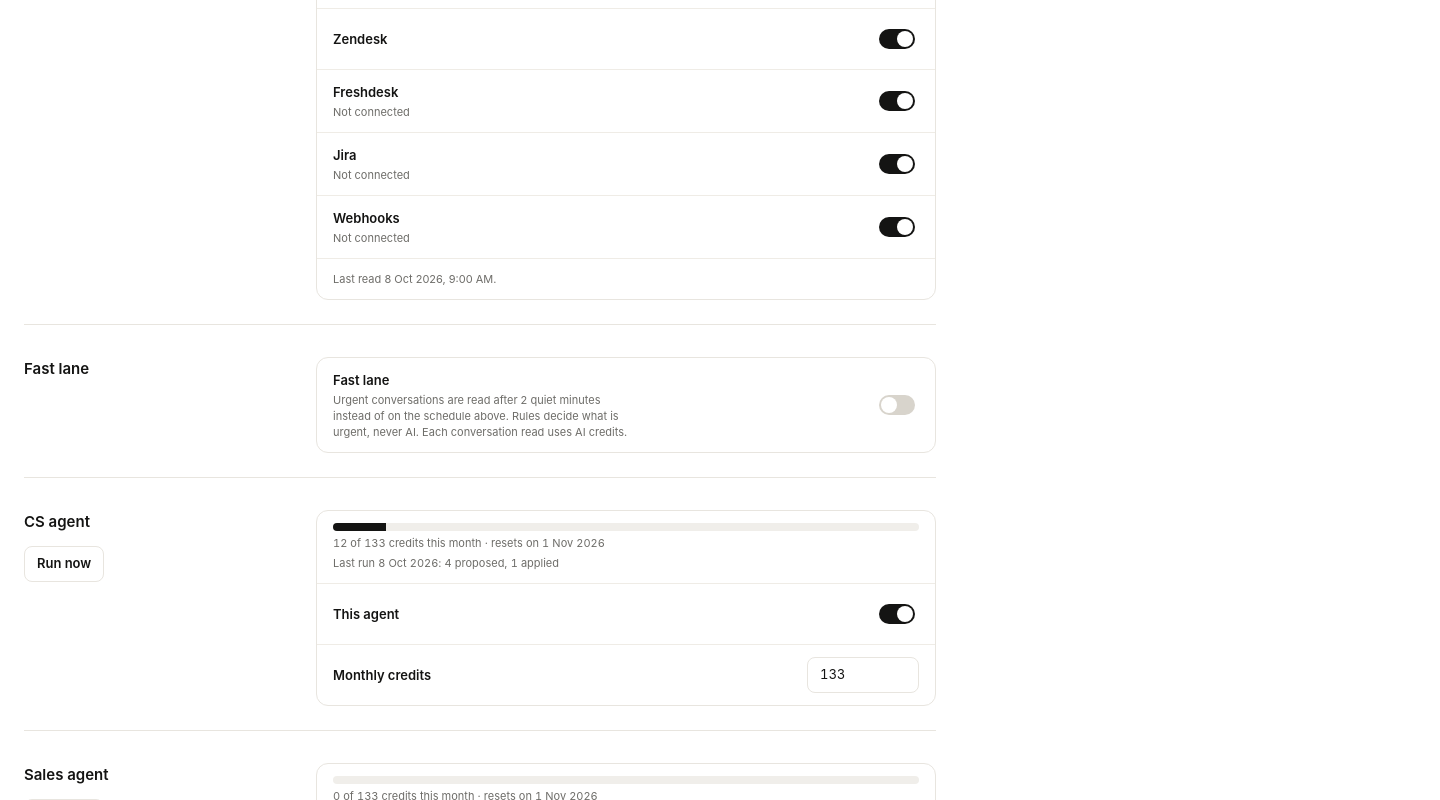
Test: FastLane (round 2 D3 frontend Decision 7) › is off by default and shows its rules once switched on
The width and height of the screenshot is (1440, 800).
(page scrolled)
Check: the text "Urgent conversations are read after 2 quiet minutes" is shown, box [333,393,627,439]
Check: the switch labelled "Jira's top priority" is not shown
Click the switch named "Fast lane": (897, 405) [875,387,919,423]
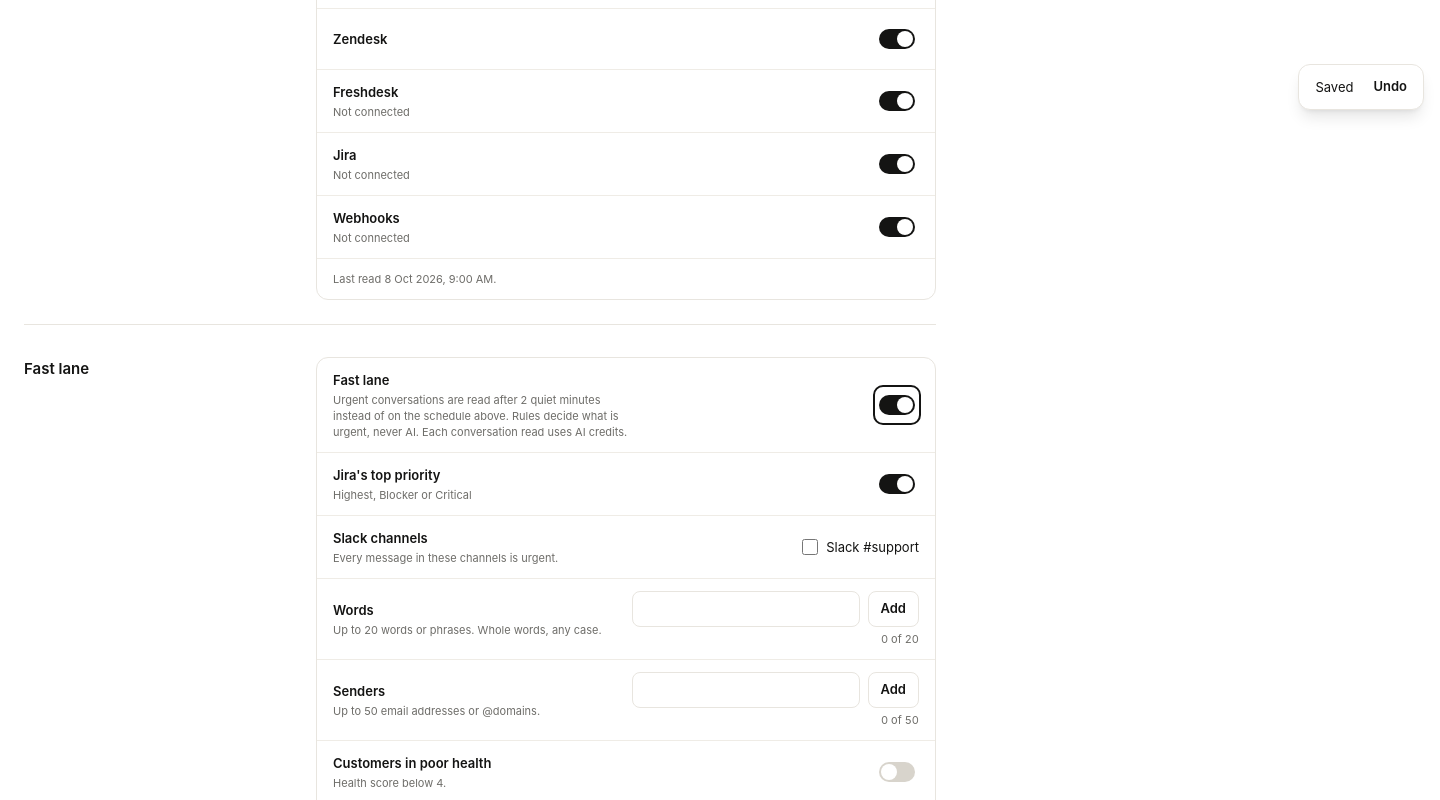
Check: the switch named "Jira's top priority" is checked, box [875,466,919,502]
Check: the switch named "Customers in poor health" is not checked, box [875,754,919,790]
Check: the checkbox labelled "Slack #support" is not checked, box [802,539,818,555]
